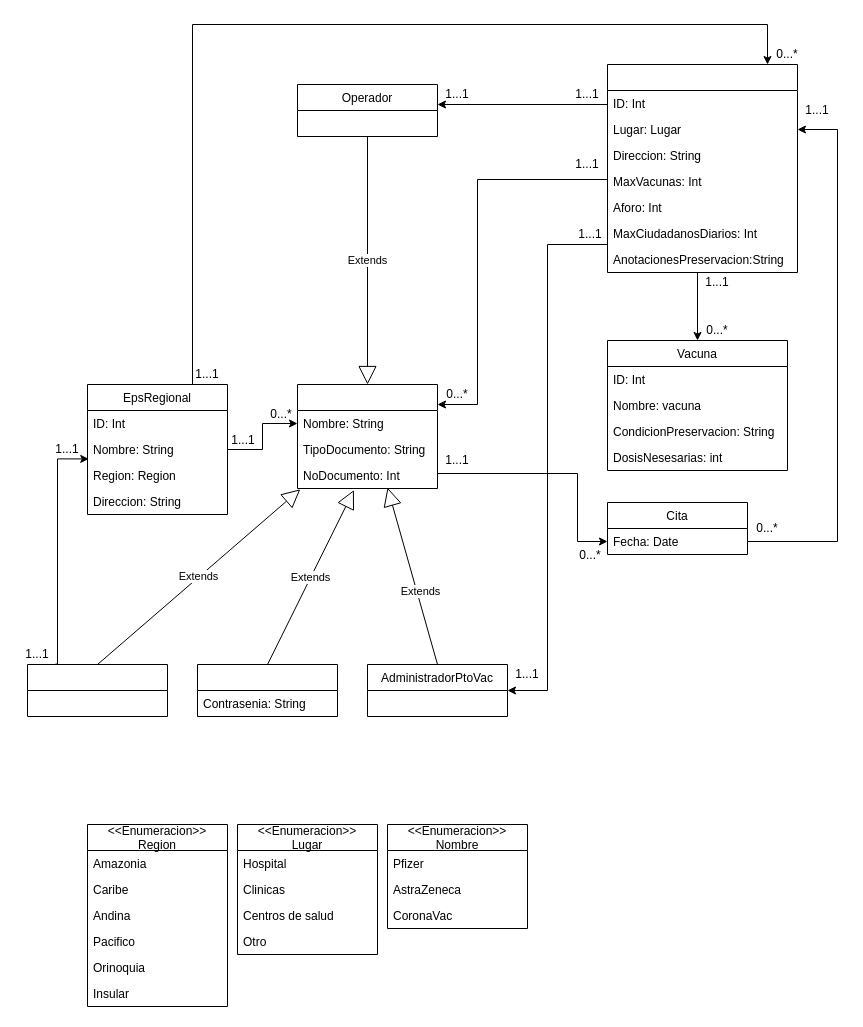
This 863x1027 diagram has some shape labels left out. Each missing label, with the box of its shape:
AdministradorEPSReg: (26, 664, 168, 716)
AdministradorPlanVac: (196, 664, 338, 716)
Ciudadano: (296, 384, 438, 488)
Punto de vacunacion: (606, 64, 798, 272)
